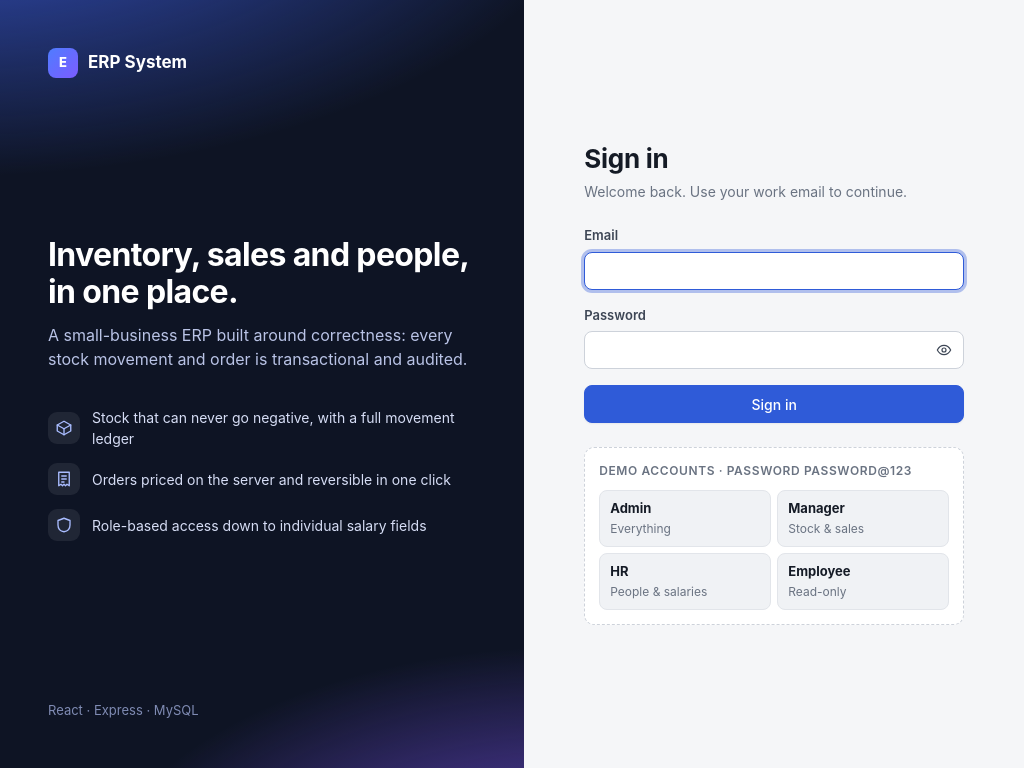
Test: Login page › shows the API's error and stays on the page
This screenshot has width=1024, height=768.
Type "admin@erp.com" into the field labelled "Email".
click(774, 271); type("admin@erp.com")  # box x1=584 y1=252 x2=964 y2=290
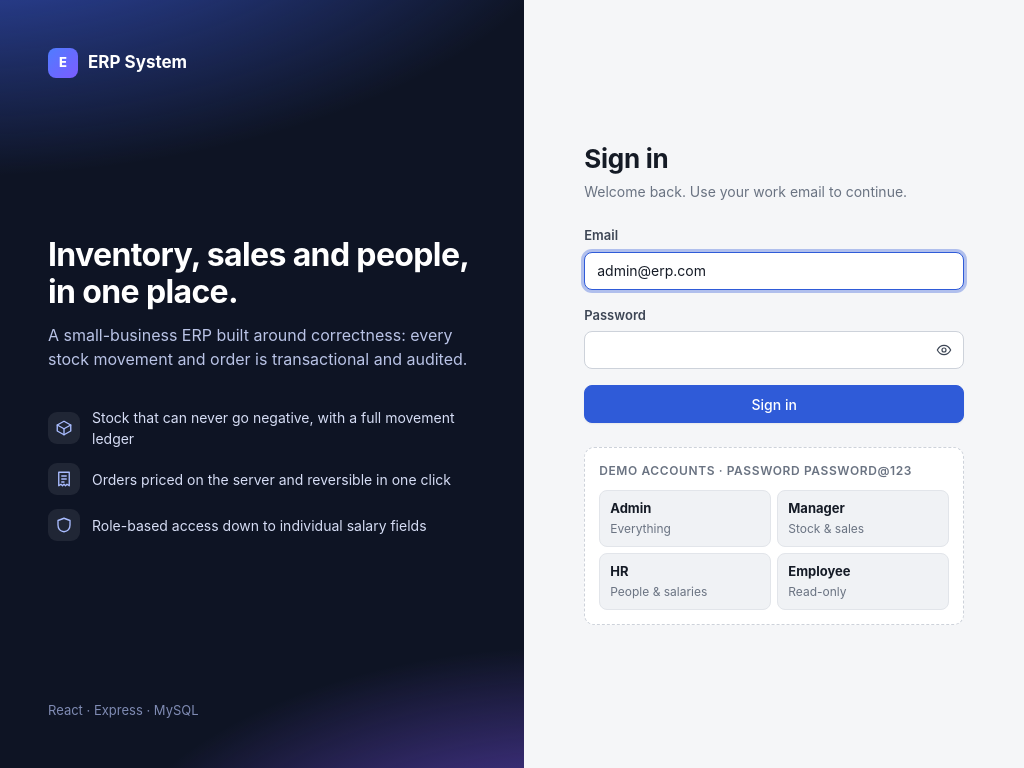
Type "wrong" into the password field labelled "Password".
click(774, 350); type("wrong")  # box x1=584 y1=331 x2=964 y2=369
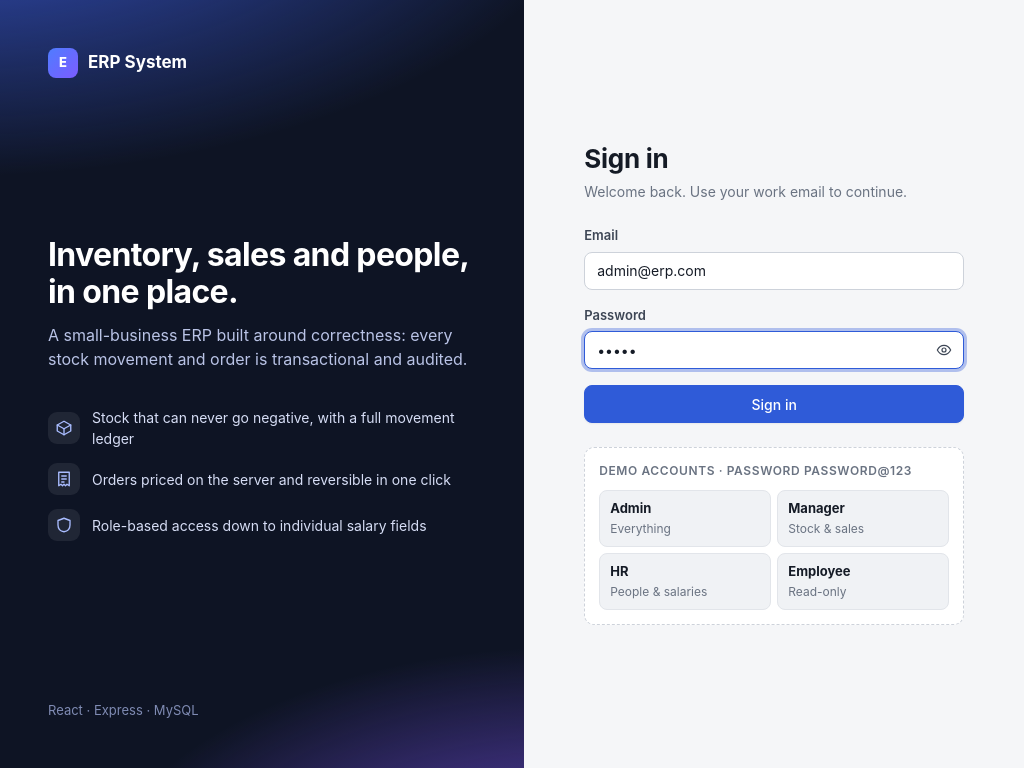
Click the button "Sign in".
click(774, 404)  # box x1=584 y1=385 x2=964 y2=423
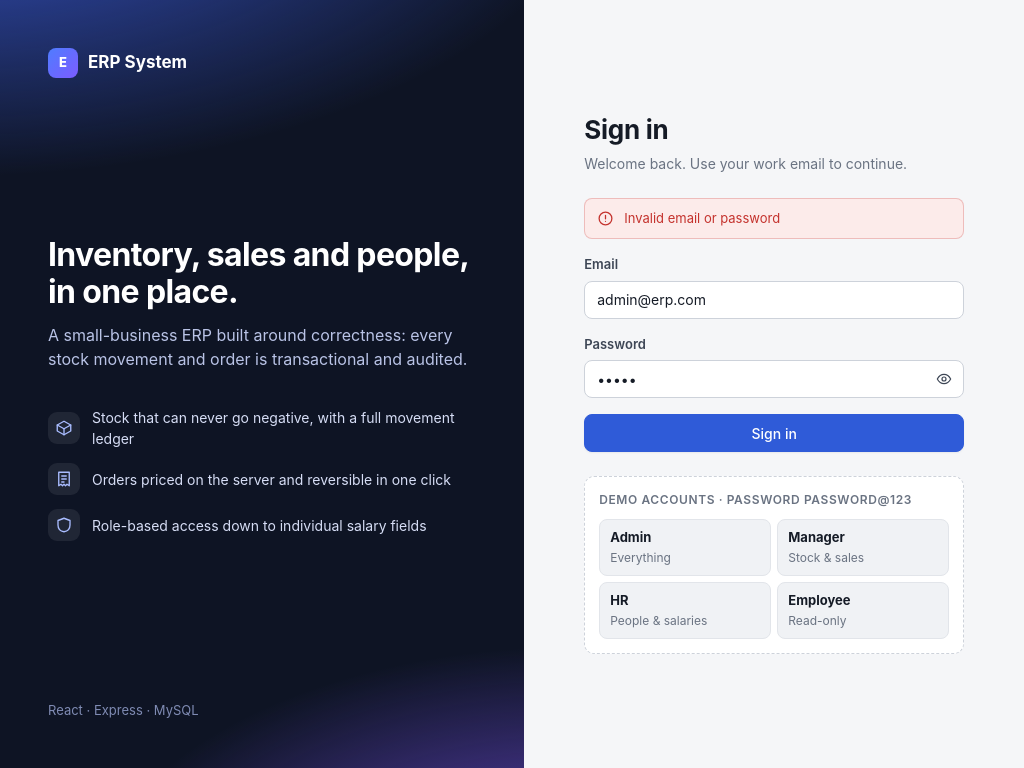
Check: the button "Sign in" is shown, box x1=584 y1=414 x2=964 y2=452
Check: the text "Invalid email or password" is shown, box x1=624 y1=208 x2=780 y2=228
